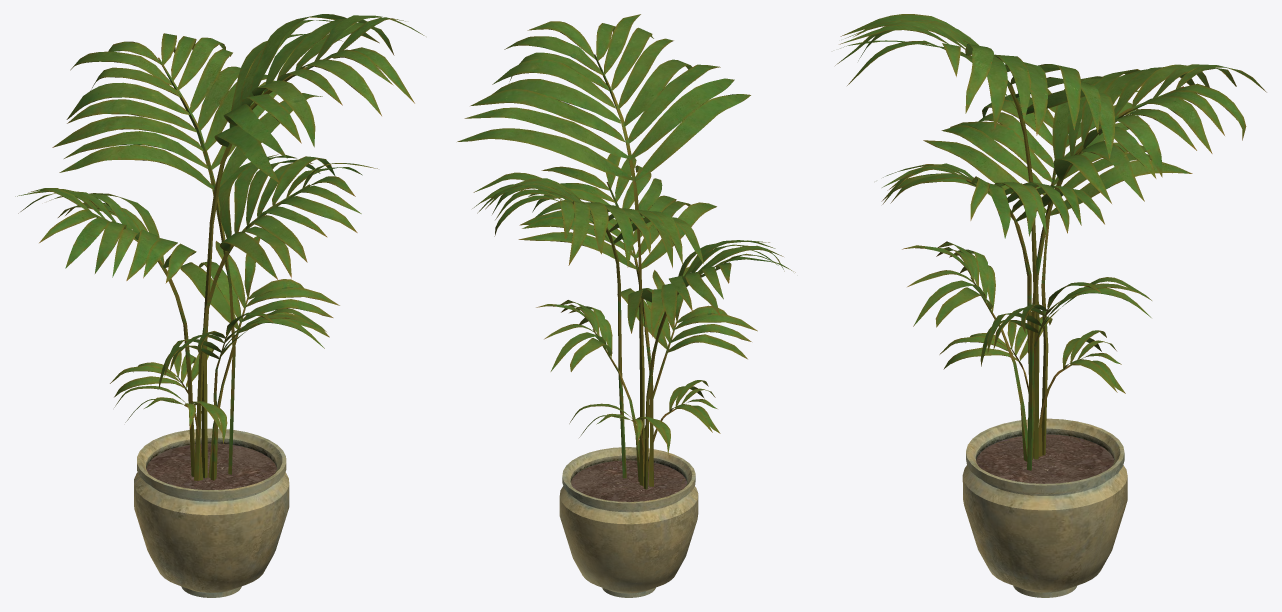
Rendered from plant-potted-medium.glb.
The picture shows the model from 3 angles, left to right: view 1: azimuth 30°, elevation 25°; view 2: azimuth 150°, elevation 25°; view 3: azimuth 270°, elevation 25°; orthographic projection. The views are drawn at different scales.
Parts seen in each view (by area): view 1: plant-potted-medium; view 2: plant-potted-medium; view 3: plant-potted-medium.
Boxes of the visible parts, <box> form: plant-potted-medium: <box>15,14,424,597</box>; plant-potted-medium: <box>457,14,795,597</box>; plant-potted-medium: <box>835,14,1266,597</box>.
Bounding box in the file's own units: 0.5121 × 0.7748 × 0.5139.
Materials: 1 (1 with a texture image).
